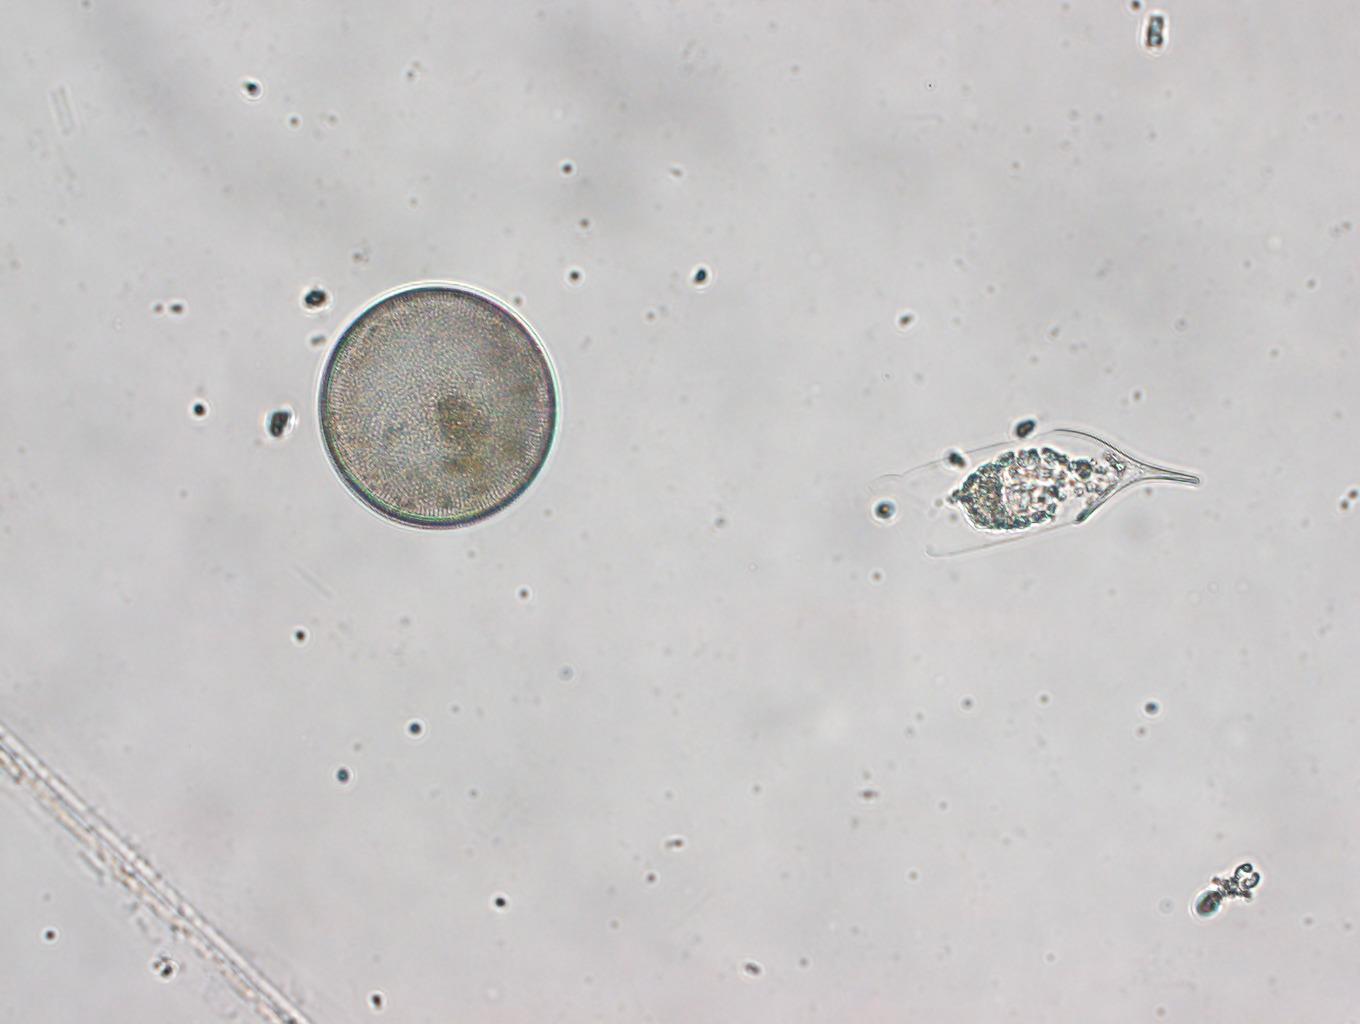coscinodiscus: (316, 283, 560, 530)
rhizosolenia: (875, 427, 1202, 563)
